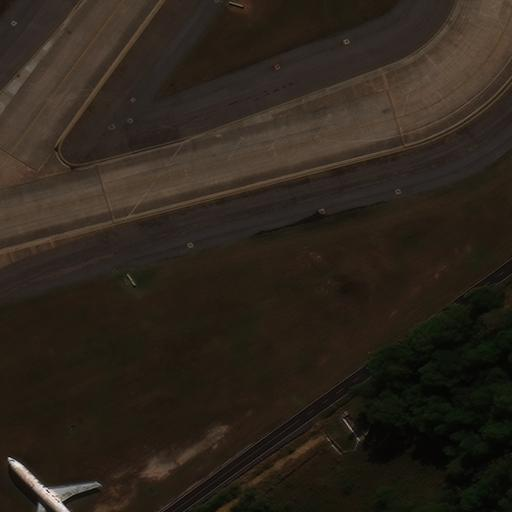Medium Civil Transport: (9, 459, 97, 512)
